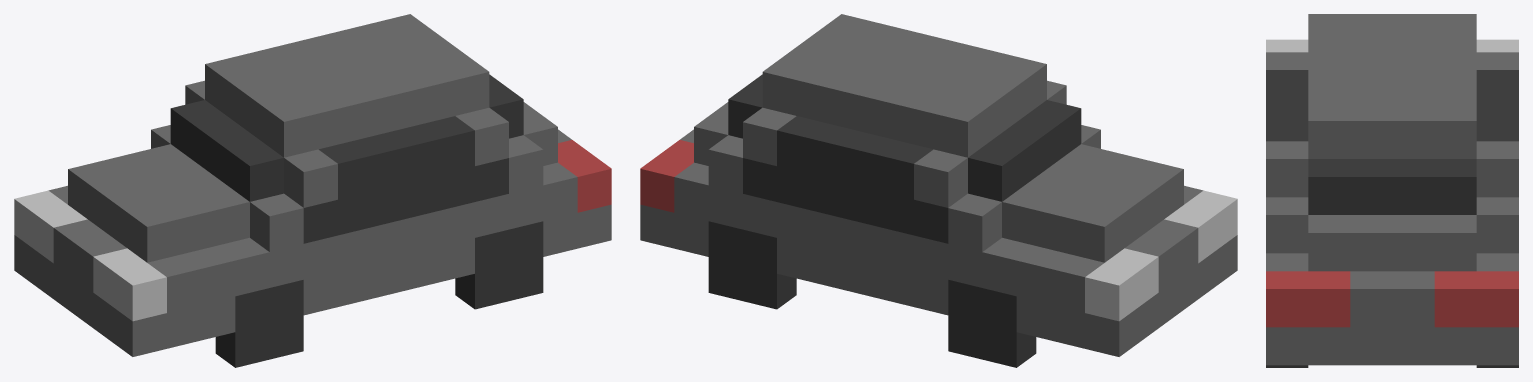
Rendered from car-v2-grey.gltf.
The picture shows the model from 3 angles, left to right: view 1: azimuth 30°, elevation 25°; view 2: azimuth 150°, elevation 25°; view 3: azimuth 270°, elevation 25°; orthographic projection. The views are drawn at different scales.
Visible parts, largest first — view 1: model, wheels; view 2: model, wheels; view 3: model, wheels.
Part boxes in pixels (left/top/right/bottom): model: left=14, top=14, right=611, bottom=356; wheels: left=215, top=221, right=543, bottom=367; model: left=640, top=14, right=1237, bottom=356; wheels: left=708, top=221, right=1036, bottom=367; model: left=1266, top=14, right=1518, bottom=365; wheels: left=1266, top=365, right=1518, bottom=367.
Bounding box in the file's own units: 1.4 × 0.6 × 0.6.
2 materials, 2 textured.
